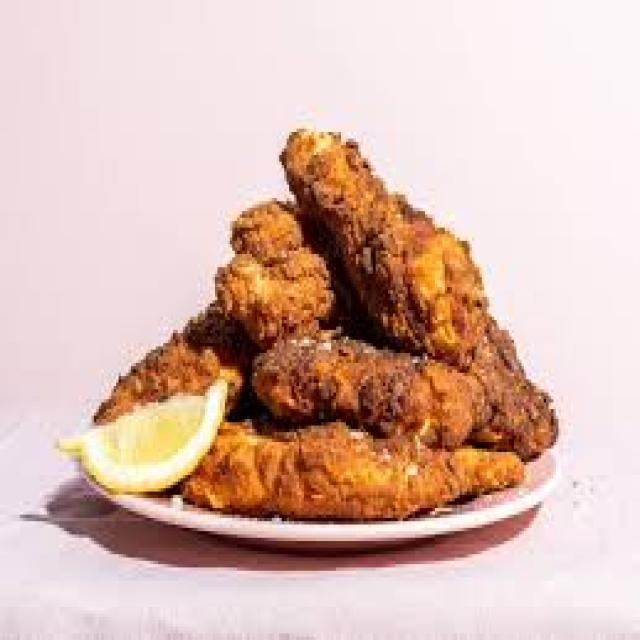Frango: (89, 116, 561, 531)
